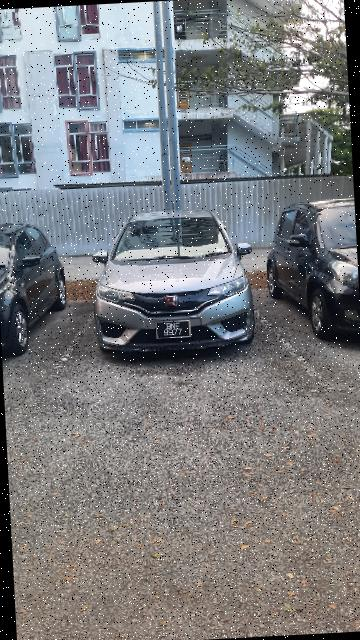License_Plate: (157, 319, 193, 342)
car: (85, 205, 266, 363)
